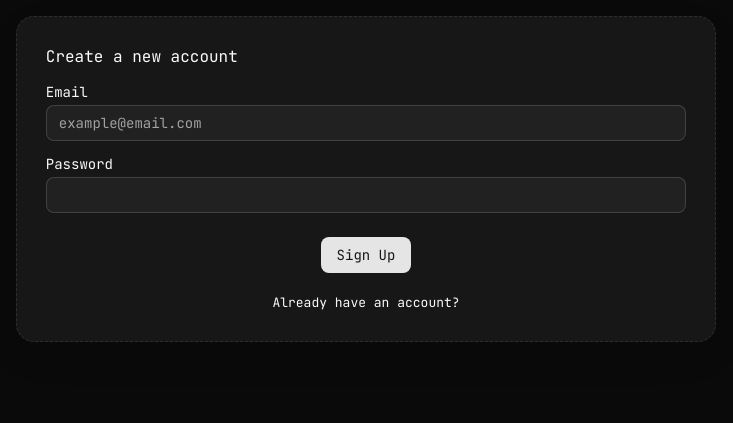
Test: CreateUser Component › displays error message if sign-up fails because email is already in use
In the field labelled "Email": (366, 123) [46,105,686,141], type "existing@example.com"
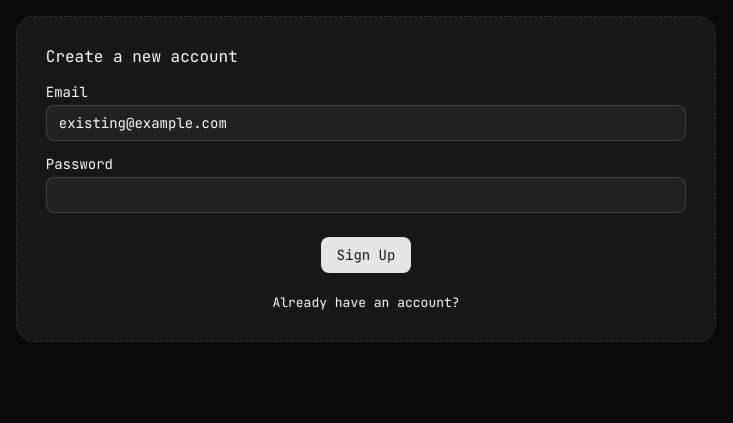
In the password field labelled "Password": (366, 194) [46,176,686,212], type "password123"
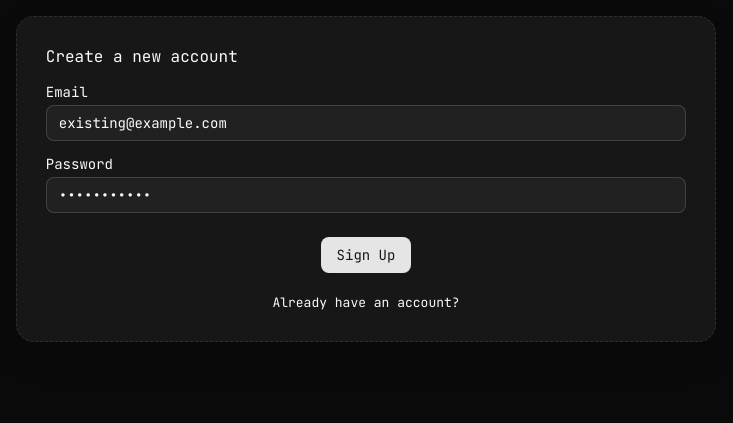
Click the button "Sign Up": (366, 254) [321,236,411,272]
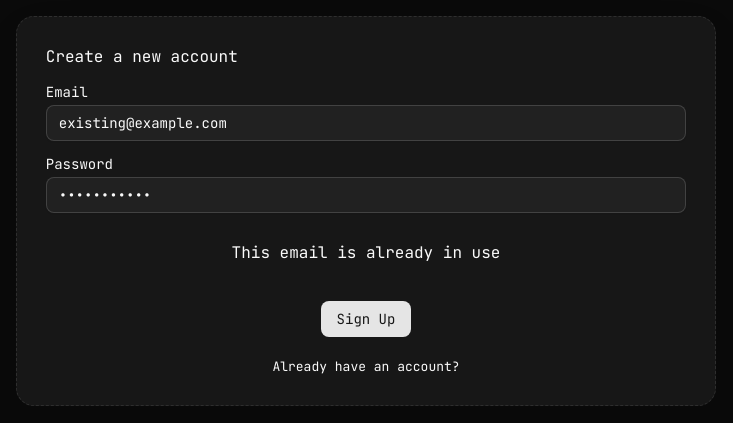
Check: the text "This email is already in use" is shown, box [232,240,500,264]
